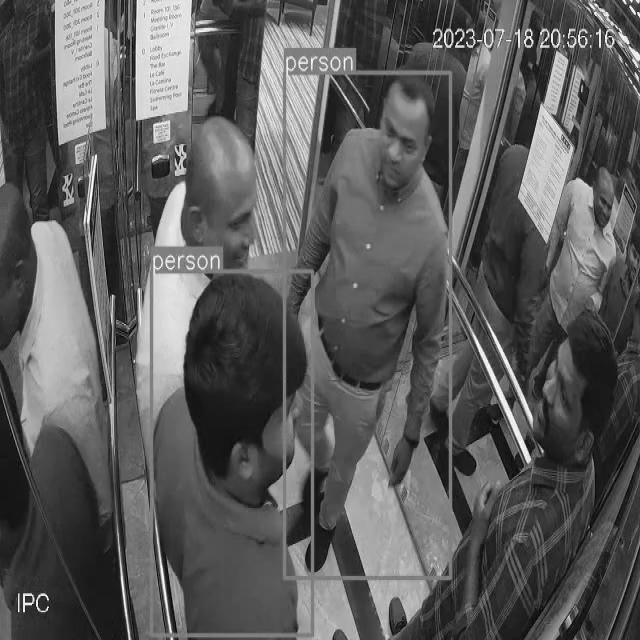person: (335, 290, 640, 640), (288, 69, 458, 575), (152, 274, 317, 632), (136, 118, 291, 452), (2, 156, 132, 551), (0, 332, 130, 630)
